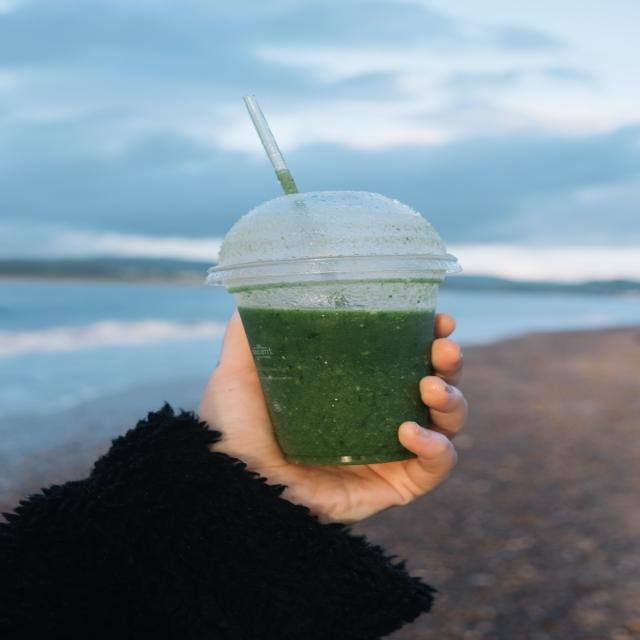cup: (208, 188, 466, 470)
